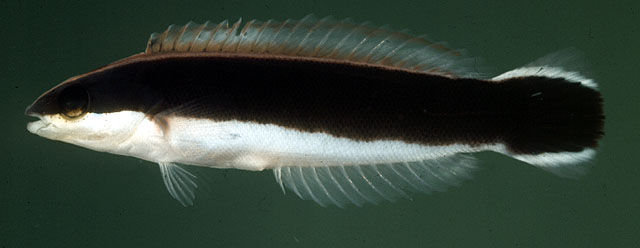fish: (24, 12, 605, 209)
